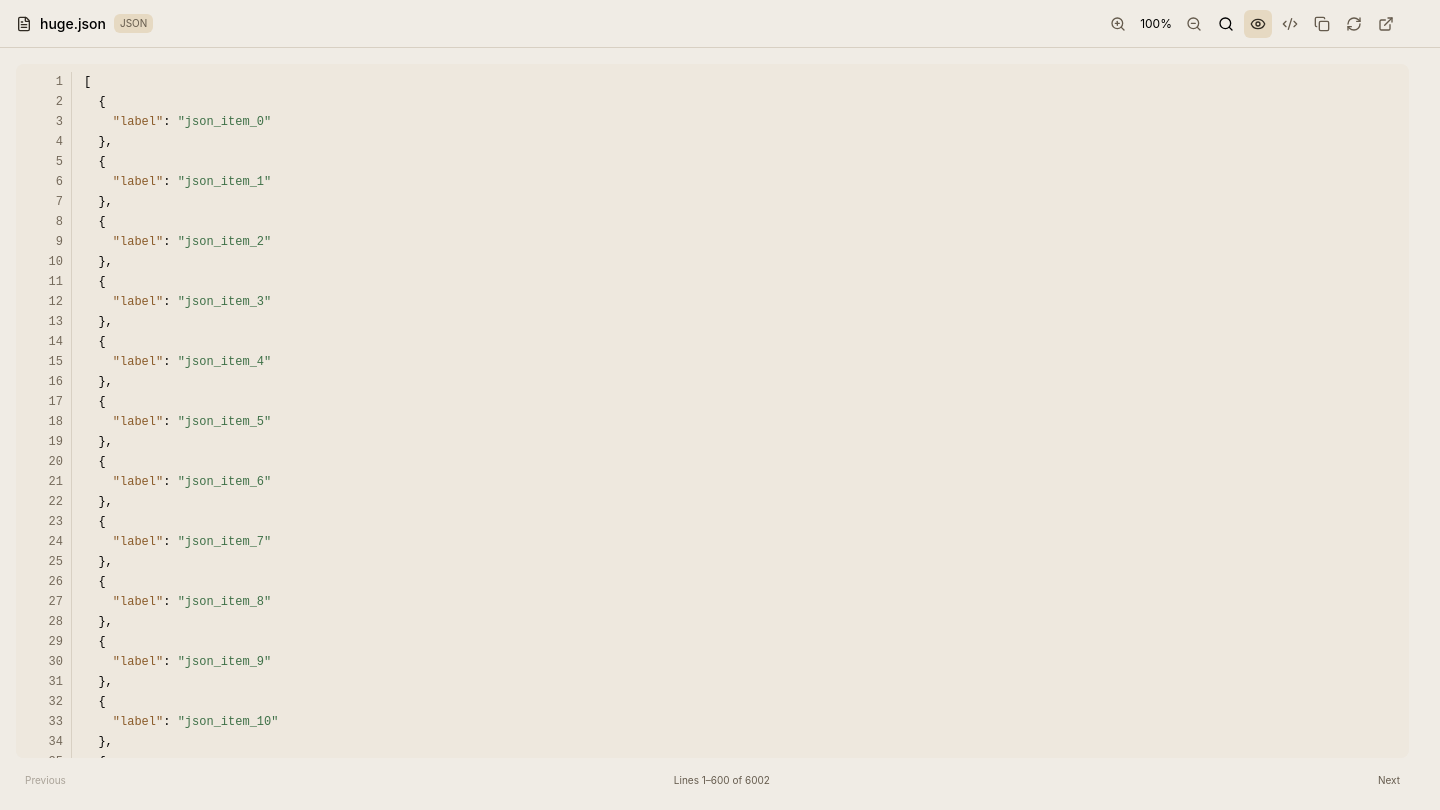
Test case: searches the formatted JSON source beyond the first page
The width and height of the screenshot is (1440, 810).
Check: the text "\"json_item_0\"" is shown, box [178,115,271,129]
Click the button named "Find in file" at (1226, 24), box [1212,10,1240,38]
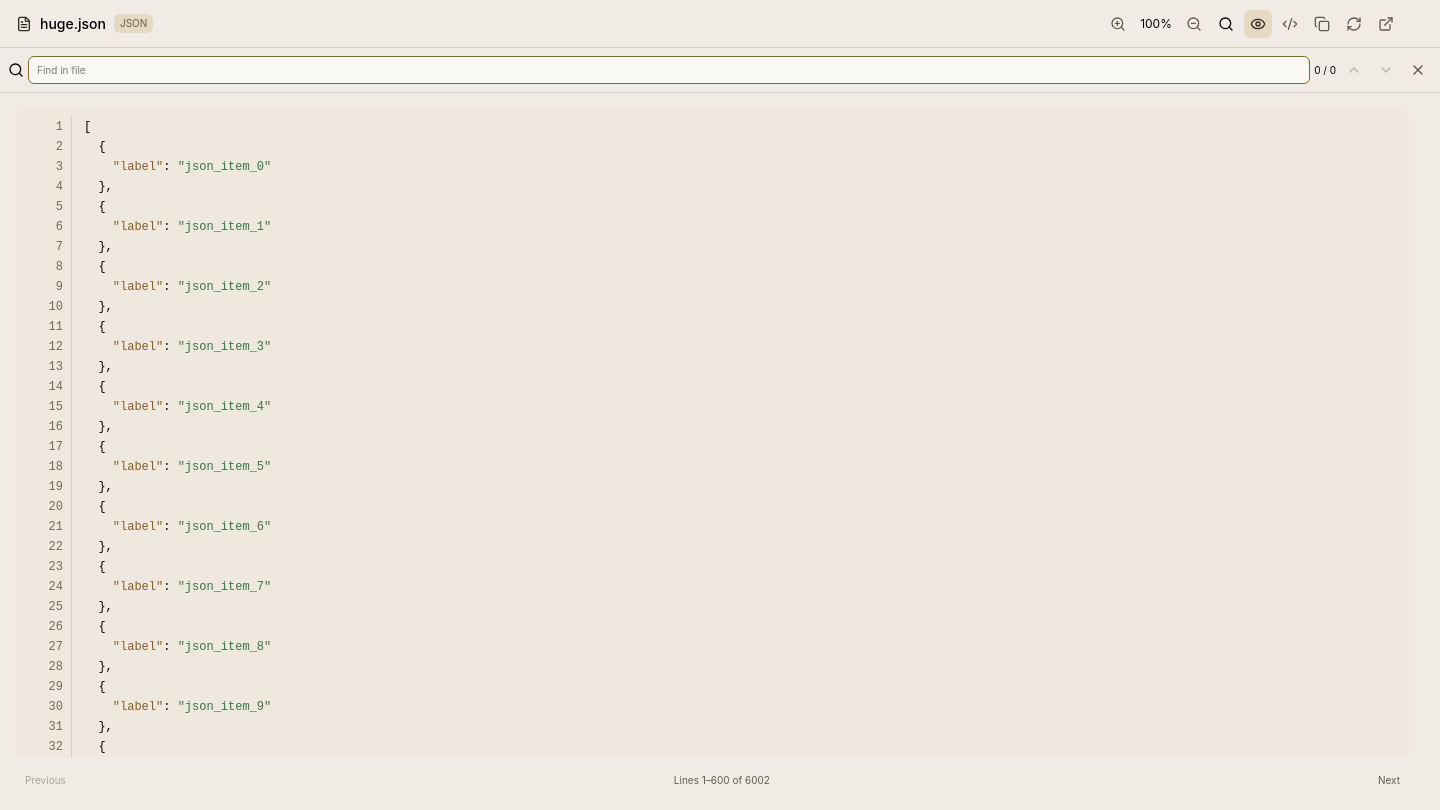
Type "\"label\": \"json_item_1999\"" into the field labelled "Find in file" at (669, 70), box [28,56,1310,84]
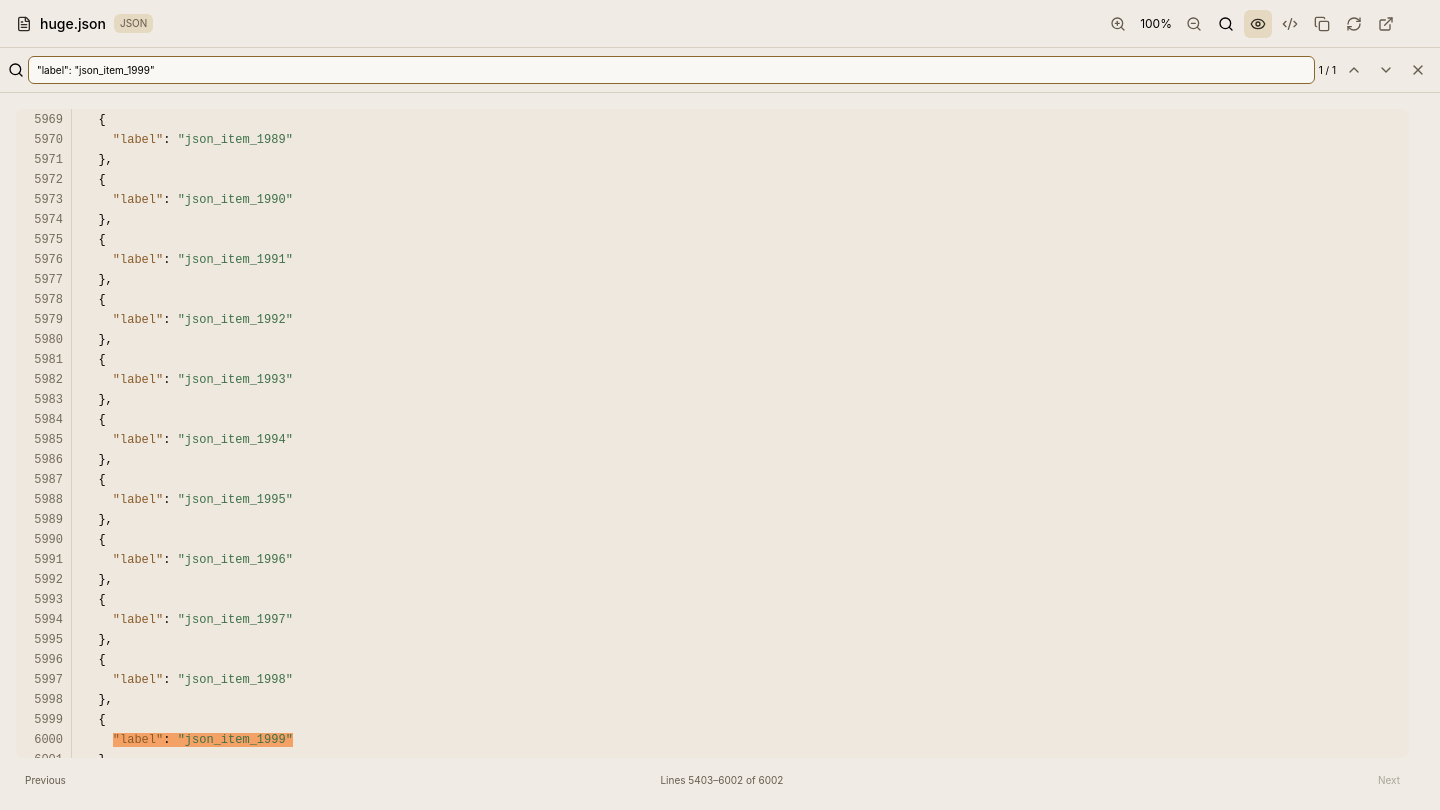
Check: the text "1 / 1" is shown, box [1319,62,1336,78]
Check: the text "\"json_item_1999\"" is shown, box [178,733,293,747]
